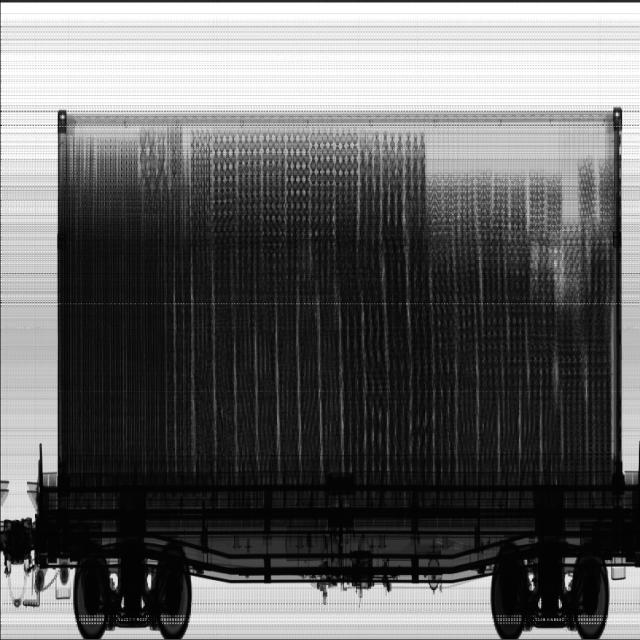table ware: (64, 132, 614, 476)
